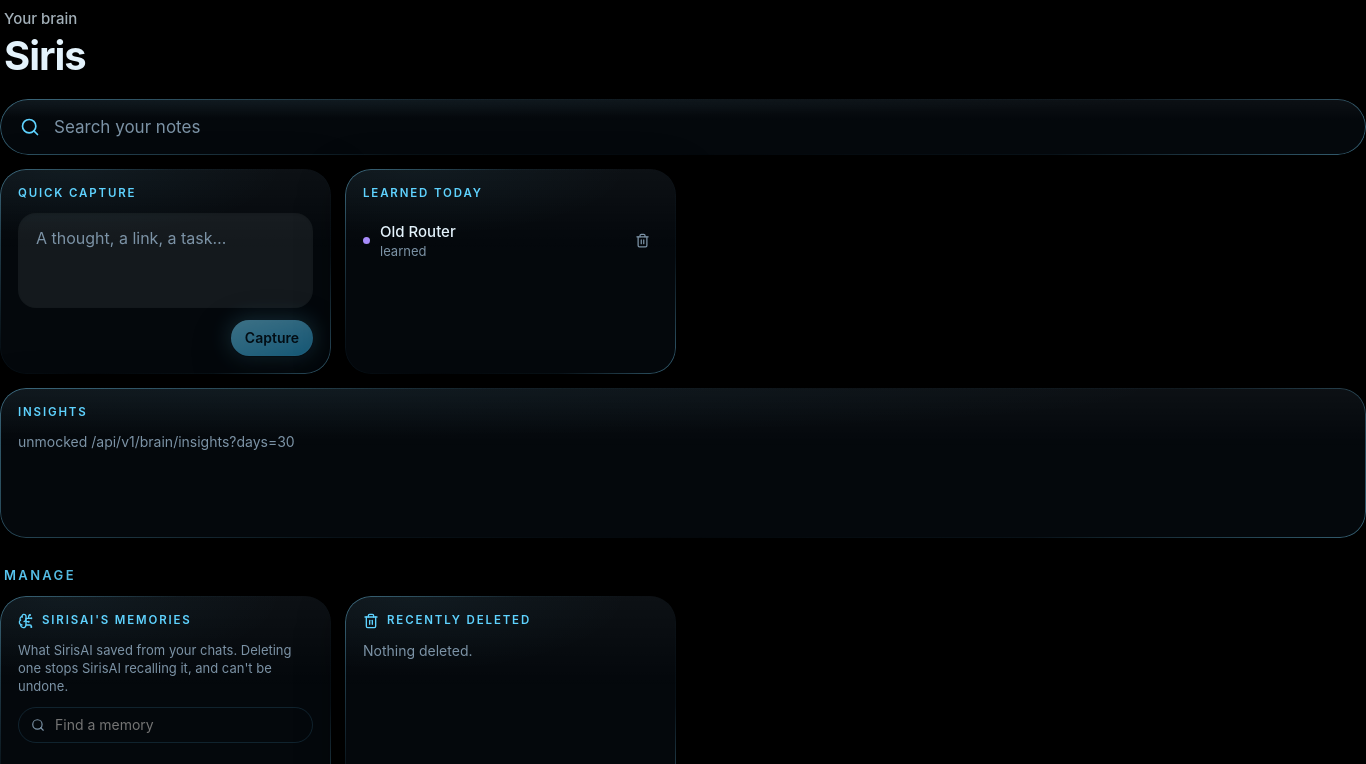
Test: Deleting from Siris › deletes from Learned today, which then stops listing it, and restores it from Recently deleted
What coordinates should you click on to do the following:
click the button named "Delete Old Router"
I would click on:
 (642, 241)
Its box is [626,225,658,257].
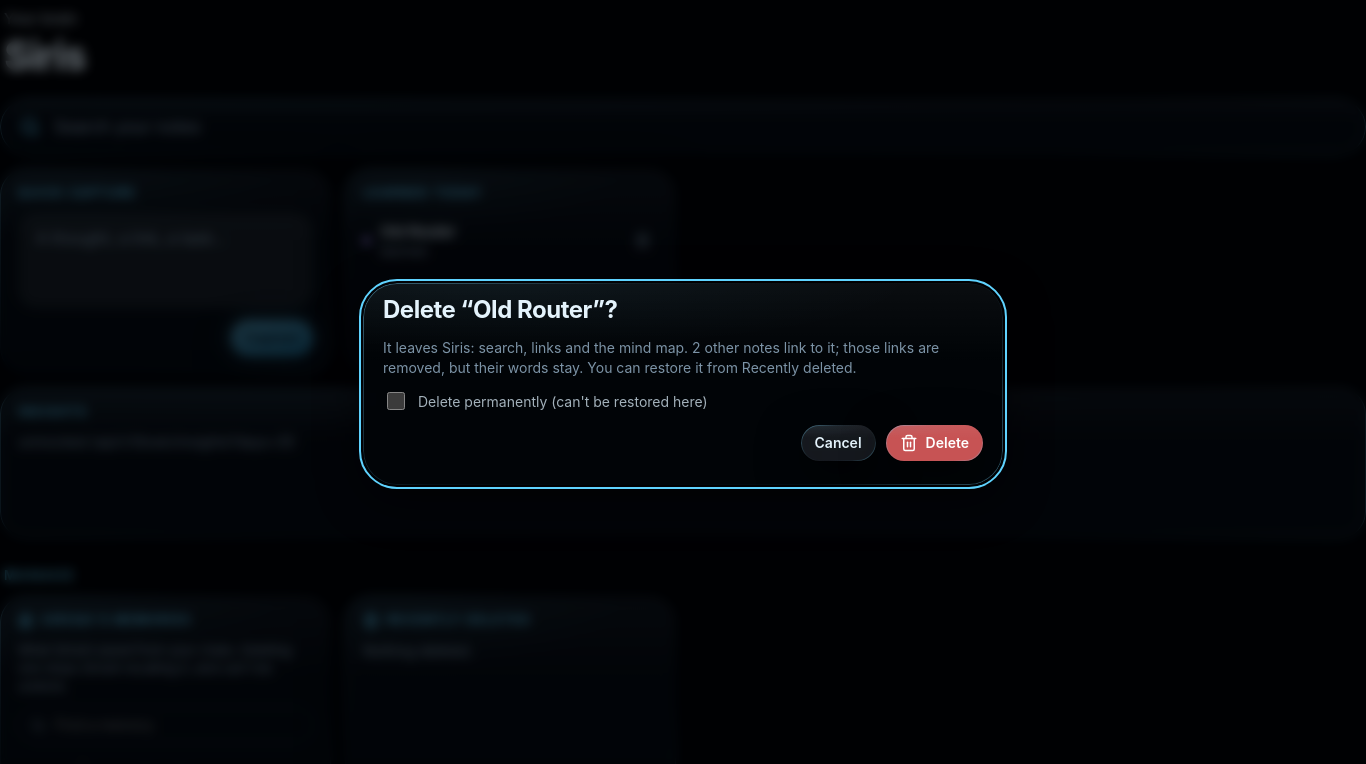
What coordinates should you click on to do the following:
click the button "Delete"
I would click on:
 (934, 443)
Its box is [886,425,983,461].
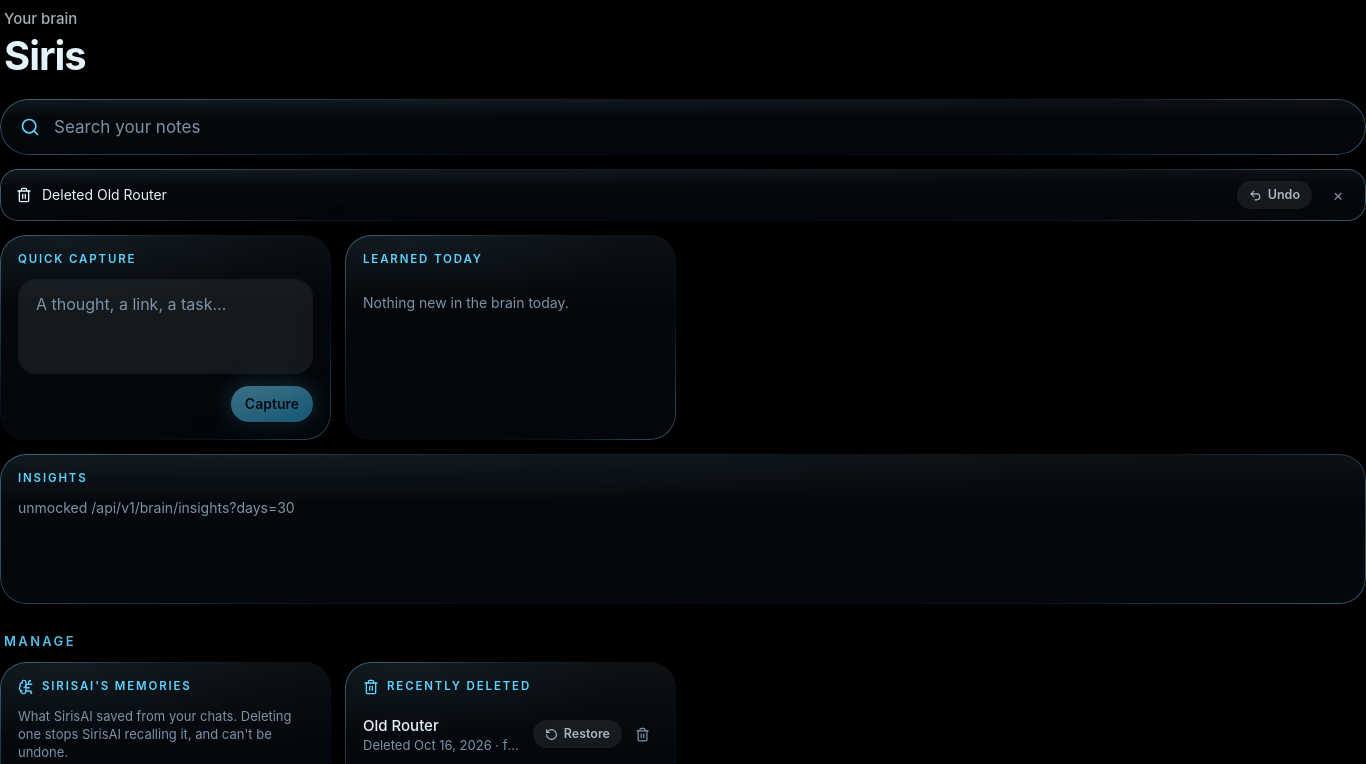
What coordinates should you click on to do the following:
click the button with aria-label "Restore Old Router"
I would click on:
 (577, 734)
Its box is [533,720,622,748].
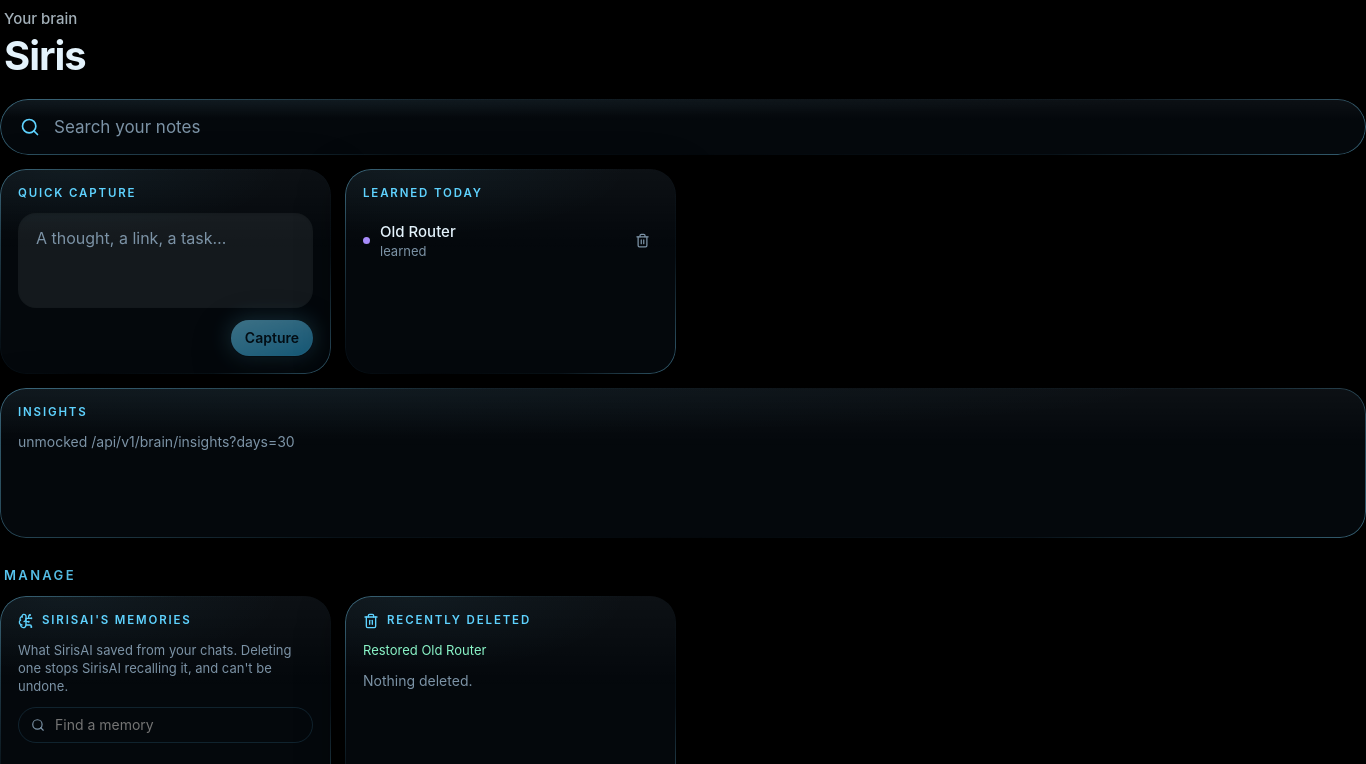
Check: the text "Old Router" is shown, box [380,222,456,241]
Check: the text "Restored Old Router" is shown, box [363,642,486,658]
